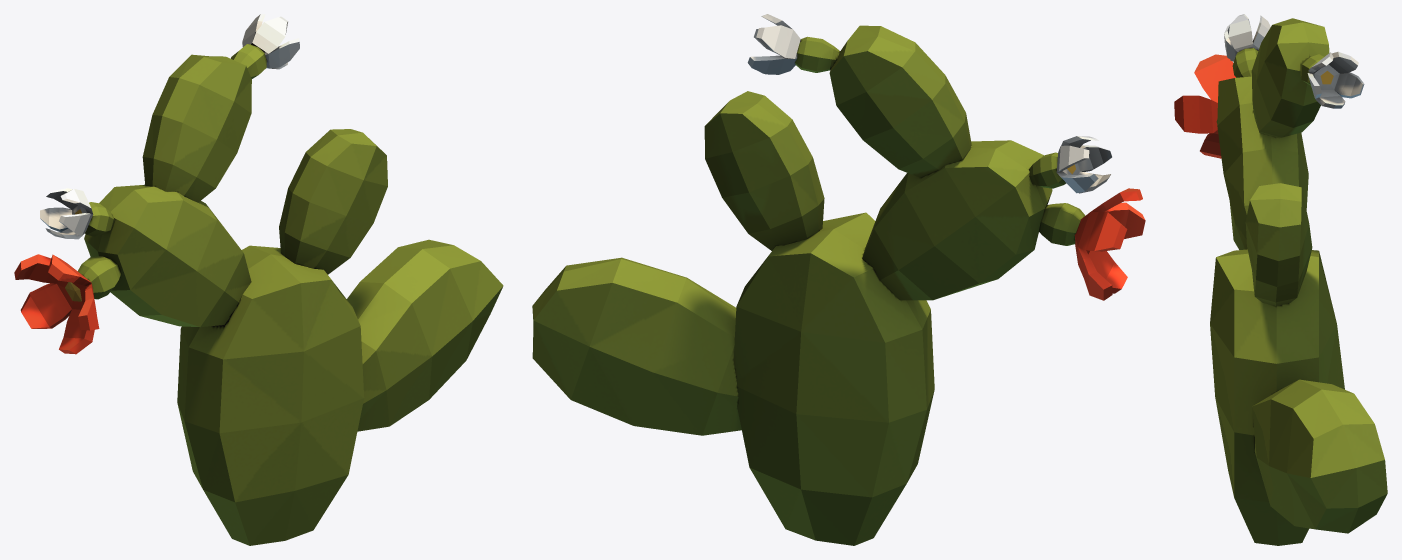
File: Nopal.obj
3 views of the same model, side by side, from view 1: azimuth 30°, elevation 25°; view 2: azimuth 150°, elevation 25°; view 3: azimuth 270°, elevation 25° (orthographic). The views are drawn at different scales.
Size of the model in its own units: 2.43 by 2.21 by 0.8762.
Materials: 1 (1 with a texture image).
